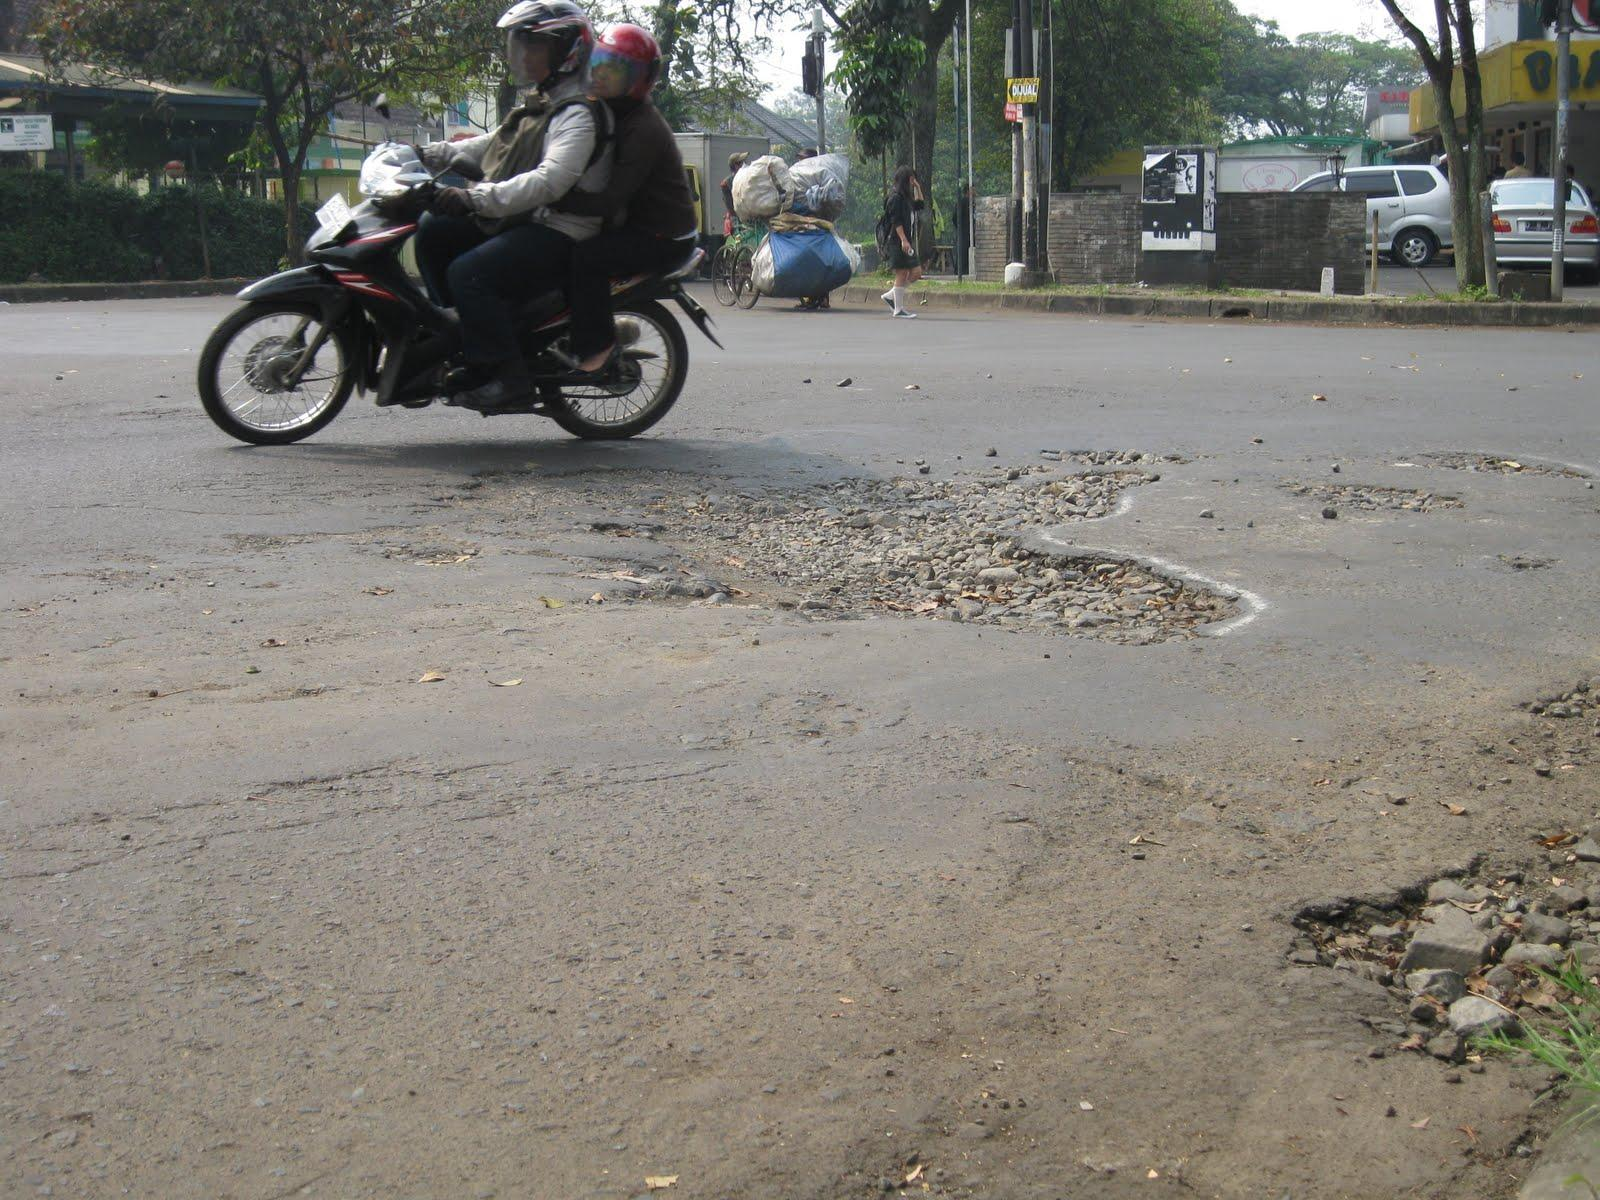Pothole: (588, 444, 1311, 679), (1274, 388, 1587, 577)
